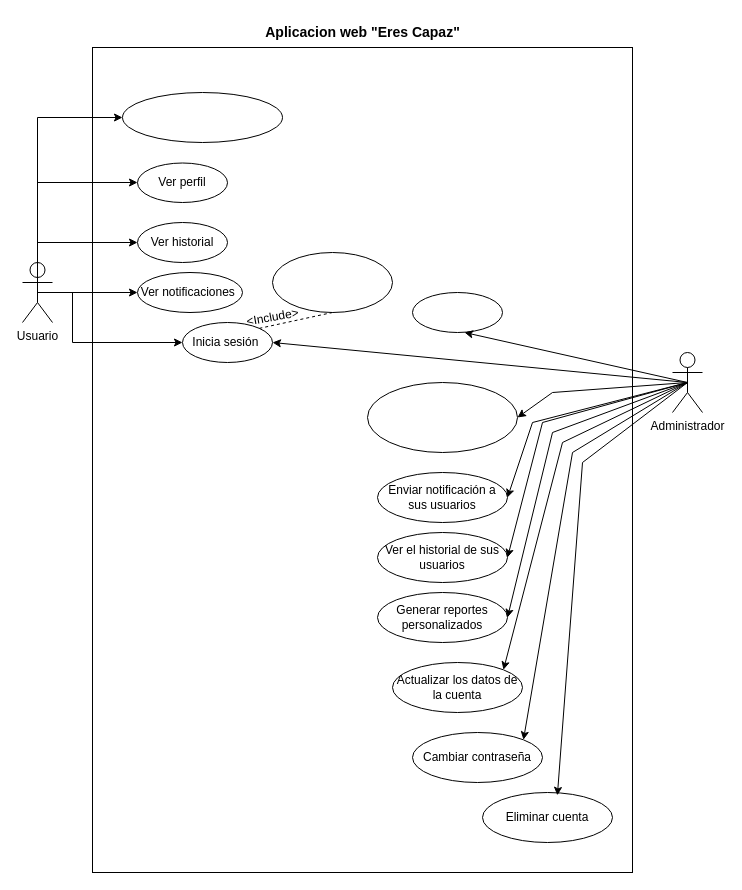
Some shapes in this 742 by 890 pixel diagram are drawn without their labels. The centre of each missing label's shape, as x and y in pixels:
"Crea una cuenta" goes at point 457,312.
"Jugar con las lecciones de aprendizaje" goes at point 202,117.
"Registrar, modificar, eliminar y ver el progreso de sus usuarios" goes at point 442,417.
"Verificación de los credenciales" goes at point 332,282.
